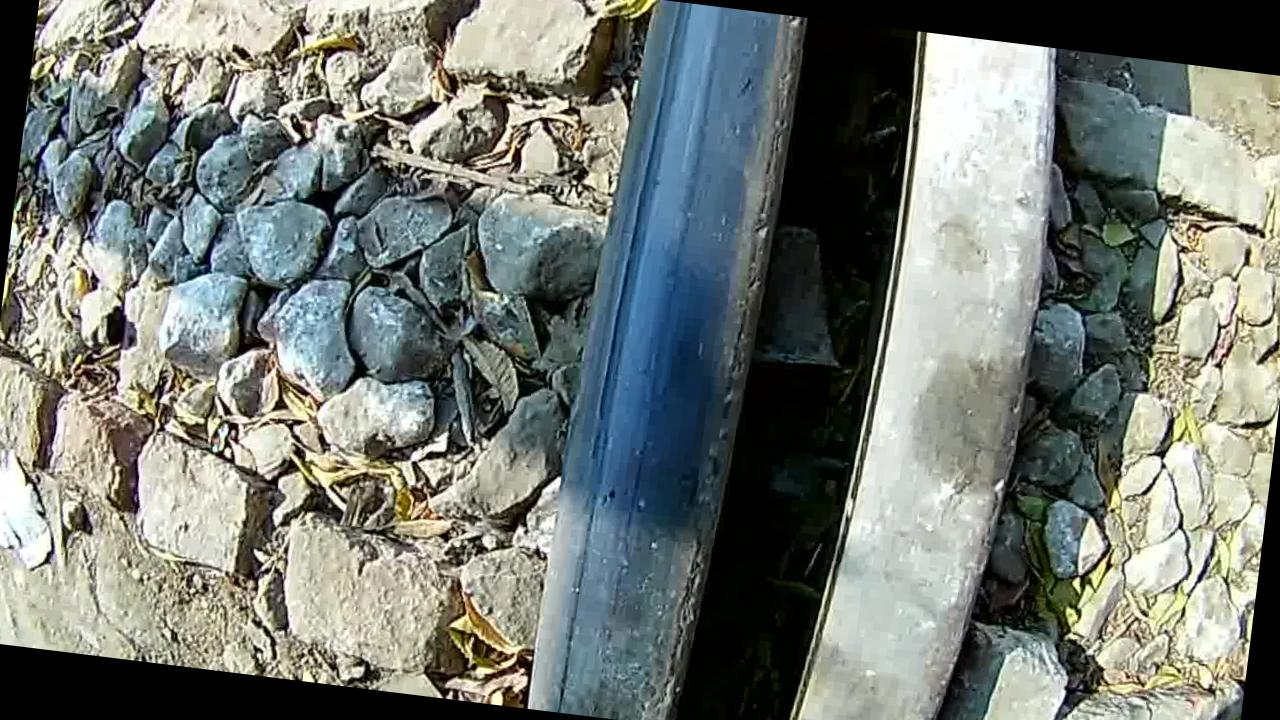clip_missing: (522, 0, 816, 720)
